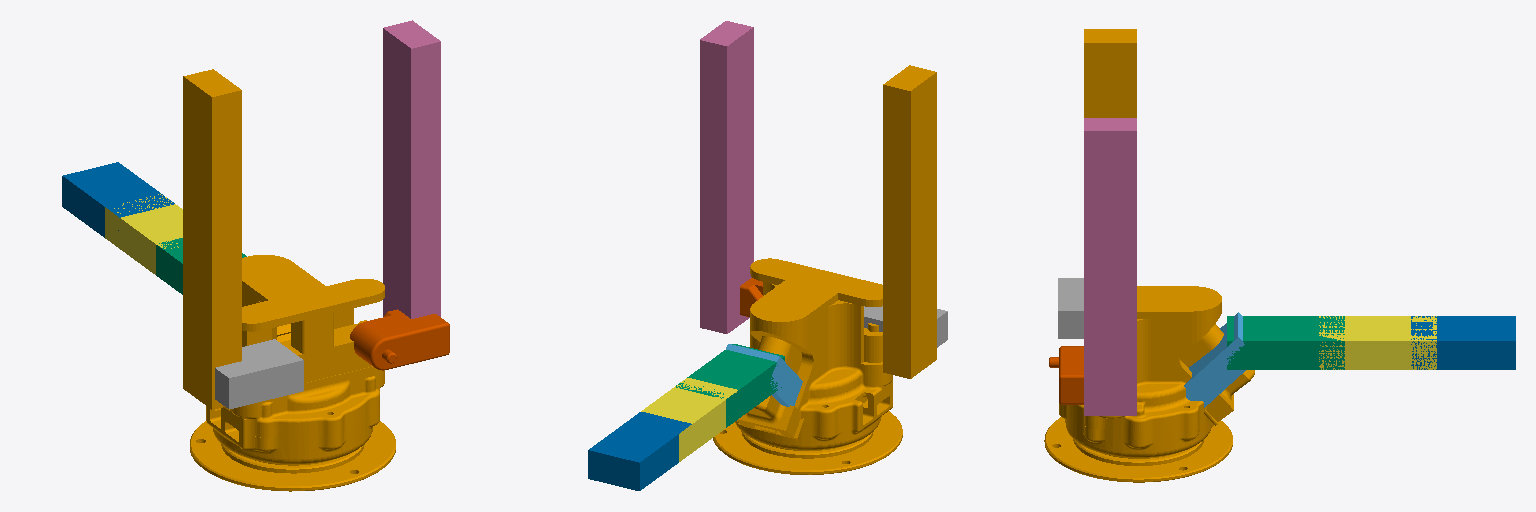
The robot description file, URDF, robot "myfirst":
<?xml version="1.0"?>
<robot name="myfirst">
    <gazebo>
        <plugin name="gazebo_ros_control" filename="libgazebo_ros_control.so">
            <robotNamespace>/</robotNamespace>
        </plugin>
    </gazebo>
    <material name="blue">
        <color rgba="0.0 0.0 1.0 2.0" />
    </material>
    <material name="white">
        <color rgba="1.0 1.0 1.0 2.0" />
    </material>
    <material name="black">
        <color rgba="0 0 0 2.0" />
    </material>

    <link name="base_link">
        <visual>
            <geometry>
                <mesh filename="package://k3hand_ros/urdf/hand/palm.stl" />
                <!-- <cylinder length="0.06" radius="0.025" /> -->
            </geometry>
            <origin xyz="0 0 0" rpy="0 0 3.1415" />
        </visual>
        <collision>
            <geometry>
                <cylinder length="0.06" radius="0.025" />
            </geometry>
        </collision>
        <!-- <inertial> -->
        <!--   <mass value="10"/> -->
        <!--   <inertia ixx="1.0" ixy="0.0" ixz="0.0" iyy="1.0" iyz="0.0" izz="1.0"/> -->
        <!-- </inertial> -->
    </link>
    <link name="link_fin1_1">
        <visual>
            <geometry>
                <box size="0.0225 0.035 0.012" />
            </geometry>
            <origin xyz="0.0 0.015 0.0" />
        </visual>
        <collision>
            <geometry>
                <box size="0.0225 0.035 0.012" />
            </geometry>
            <origin xyz="0.0 0.015 0.0" />
        </collision>
        <inertial>
            <mass value="10" />
            <inertia ixx="1.0" ixy="0.0" ixz="0.0" iyy="1.0" iyz="0.0" izz="1.0" />
        </inertial>
    </link>
    <link name="link_fin1_2">
        <visual>
            <geometry>
                <box size="0.0225 0.045 0.012" />
            </geometry>
            <origin xyz="0.0 0.0175 0.0" />
        </visual>
        <collision>
            <geometry>
                <box size="0.0225 0.045 0.012" />
            </geometry>
            <origin xyz="0.0 0.0175 0.0" />
        </collision>
        <inertial>
            <mass value="10" />
            <inertia ixx="1.0" ixy="0.0" ixz="0.0" iyy="1.0" iyz="0.0" izz="1.0" />
        </inertial>
    </link>
    <link name="link_fin1_3">
        <visual>
            <geometry>
                <box size="0.0225 0.045 0.012" />
            </geometry>
            <origin xyz="0.0 0.0175 0.0" />
        </visual>
        <collision>
            <geometry>
                <box size="0.0225 0.045 0.012" />
            </geometry>
            <origin xyz="0.0 0.0175 0.0" />
        </collision>
        <inertial>
            <mass value="10" />
            <inertia ixx="1.0" ixy="0.0" ixz="0.0" iyy="1.0" iyz="0.0" izz="1.0" />
        </inertial>
    </link>


    <link name="link_fin1_4">
        <visual>
            <geometry>
                <box size="0.0225 0.040 0.012" />
            </geometry>
            <origin xyz="0.0 0.015 0.0" />
        </visual>
        <collision>
            <geometry>
                <box size="0.0225 0.040 0.012" />
            </geometry>
            <origin xyz="0.0 0.015 0.0" />
        </collision>
        <inertial>
            <mass value="10" />
            <inertia ixx="1.0" ixy="0.0" ixz="0.0" iyy="1.0" iyz="0.0" izz="1.0" />
        </inertial>
    </link>

    <link name="link_fin2_1">
        <visual>
            <geometry>
                <mesh filename="package://k3hand_ros/urdf/hand/link_fin1_1.stl" />
                <!-- <box size="0.020 0.030 0.012" /> -->
            </geometry>
            <origin xyz="-0.005 -0.010 0.0" />
        </visual>
        <collision>
            <geometry>
                <box size="0.020 0.030 0.012" />
            </geometry>
            <origin xyz="-0.005 -0.010 0.0" />
        </collision>

        <inertial>
            <mass value="10" />
            <inertia ixx="1.0" ixy="0.0" ixz="0.0" iyy="1.0" iyz="0.0" izz="1.0" />
        </inertial>
    </link>
    <link name="link_fin2_2">
        <visual>
            <geometry>
                <box size="0.020 0.120 0.012" />
            </geometry>
            <origin xyz="0.005 -0.050 0.0" />
        </visual>
        <collision>
            <geometry>
                <box size="0.020 0.120 0.012" />
            </geometry>
            <origin xyz="0.005 -0.050 0.0" />
        </collision>
        <inertial>
            <mass value="10" />
            <inertia ixx="1.0" ixy="0.0" ixz="0.0" iyy="1.0" iyz="0.0" izz="1.0" />
        </inertial>
    </link>

    <link name="link_fin3_1">
        <visual>
            <geometry>
                <box size="0.020 0.030 0.012" />
            </geometry>
            <origin xyz="0.005 -0.010 0.0" />
        </visual>
        <collision>
            <geometry>
                <box size="0.020 0.030 0.012" />
            </geometry>
            <origin xyz="0.005 -0.010 0.0" />
        </collision>
        <inertial>
            <mass value="10" />
            <inertia ixx="1.0" ixy="0.0" ixz="0.0" iyy="1.0" iyz="0.0" izz="1.0" />
        </inertial>
    </link>
    <link name="link_fin3_2">
        <visual>
            <geometry>
                <box size="0.020 0.120 0.012" />
            </geometry>
            <origin xyz="-0.005 -0.050 0.0" />
        </visual>
        <collision>
            <geometry>
                <box size="0.020 0.120 0.012" />
            </geometry>
            <origin xyz="-0.005 -0.050 0.0" />
        </collision>
        <inertial>
            <mass value="10" />
            <inertia ixx="1.0" ixy="0.0" ixz="0.0" iyy="1.0" iyz="0.0" izz="1.0" />
        </inertial>
    </link>
    <joint name="joint0" type="revolute">
        <axis xyz="0.0 0.0 1.0" />
        <parent link="base_link" />
        <child link="link_fin2_1" />
        <origin xyz="0.020 -0.015 0.020" rpy="0.0 0.0 1.570796" />
        <limit lower="-1.570796" upper="0.523599" effort="0.0" velocity="0.0" />
    </joint>
    <joint name="joint1" type="revolute">
        <axis xyz="1.0 0.0 0" />
        <parent link="link_fin2_1" />
        <child link="link_fin2_2" />
        <origin xyz="0.000 -0.020 0.0" rpy="-1.570796 0.0 0.0" />
        <limit lower="-1.570796" upper="1.579796" effort="0.0" velocity="0.0" />
    </joint>
    <joint name="joint2" type="revolute">
        <axis xyz="0.0 0.0 1.0" />
        <parent link="base_link" />
        <child link="link_fin3_1" />
        <origin xyz="-0.020 -0.015 0.020" rpy="0.0 0.0 -1.570796" />
        <limit lower="-0.523599" upper="1.570796" effort="0.0" velocity="0.0" />
    </joint>
    <joint name="joint3" type="revolute">
        <axis xyz="-1.0 0.0 0" />
        <parent link="link_fin3_1" />
        <child link="link_fin3_2" />
        <origin xyz="0.000 -0.020 0.0" rpy="-1.570796 0.0 0.0" />
        <limit lower="-1.570796" upper="1.570796" effort="0.0" velocity="0.0" />
    </joint>
    <joint name="joint4" type="revolute">
        <axis xyz="0.0 0 -1" />
        <parent link="base_link" />
        <child link="link_fin1_1" />
        <origin rpy="0.78537 0 0" xyz="0 0.02 0" />
        <limit lower="-1.570796" upper="1.570796" effort="30.0" velocity="1.0" />
    </joint>
    <transmission name="joint_fin1_1_trans">
        <type>transmission_interface/SimpleTransmission</type>
        <actuator name="$joint_fin1_1_motor">
            <mechanicalReduction>1</mechanicalReduction>
        </actuator>
        <joint name="joint4">
            <hardwareInterface>hardware_interface/PositionJointInterface</hardwareInterface>
        </joint>
    </transmission>
    <joint name="joint5" type="revolute">
        <axis xyz="1 0.0 0.0" />
        <parent link="link_fin1_1" />
        <child link="link_fin1_2" />
        <origin rpy="-0.78537 0 0" xyz="0 0.0275 0" />
        <limit lower="-0.8726646" upper="2.268928" effort="0.0" velocity="0.0" />
    </joint>
    <joint name="joint6" type="revolute">
        <axis xyz="1 0.0 0.0" />
        <parent link="link_fin1_2" />
        <child link="link_fin1_3" />
        <origin rpy="0 0 0" xyz="0 0.035 0" />
        <limit lower="-1.570796" upper="1.570796" effort="0.0" velocity="0.0" />
    </joint>
    <joint name="joint7" type="revolute">
        <axis xyz="1 0.0 0.0" />
        <parent link="link_fin1_3" />
        <child link="link_fin1_4" />
        <origin rpy="0 0 0" xyz="0 0.035 0" />
        <limit lower="-1.570796" upper="1.570796" effort="0.0" velocity="0.0" />
    </joint>

</robot>

--- Render facts (derived) ---
3 views of the same robot in one strip: view 1: azimuth 30°, elevation 25°; view 2: azimuth 150°, elevation 25°; view 3: azimuth 270°, elevation 25° (orthographic).
Robot: myfirst — 9 links, 8 joints (8 revolute); root link base_link; default pose: every joint at zero.
Visible links, largest first — view 1: base_link, link_fin3_2, link_fin2_2, link_fin1_4, link_fin2_1, link_fin3_1, link_fin1_3, link_fin1_2; view 2: base_link, link_fin3_2, link_fin2_2, link_fin1_4, link_fin1_2, link_fin1_3, link_fin1_1, link_fin3_1, link_fin2_1; view 3: base_link, link_fin2_2, link_fin1_2, link_fin1_3, link_fin1_4, link_fin3_2, link_fin1_1, link_fin3_1, link_fin2_1.
Link boxes in pixels (x1=…): base_link: x1=190, y1=255, x2=395, y2=491; link_fin3_2: x1=183, y1=69, x2=241, y2=409; link_fin2_2: x1=383, y1=20, x2=440, y2=318; link_fin1_4: x1=62, y1=162, x2=174, y2=237; link_fin2_1: x1=350, y1=309, x2=449, y2=370; link_fin3_1: x1=215, y1=339, x2=303, y2=408; link_fin1_3: x1=105, y1=194, x2=182, y2=274; link_fin1_2: x1=156, y1=238, x2=246, y2=294; base_link: x1=713, y1=258, x2=902, y2=474; link_fin3_2: x1=883, y1=65, x2=936, y2=378; link_fin2_2: x1=700, y1=21, x2=753, y2=333; link_fin1_4: x1=588, y1=412, x2=691, y2=490; link_fin1_2: x1=676, y1=344, x2=784, y2=427; link_fin1_3: x1=641, y1=378, x2=737, y2=461; link_fin1_1: x1=726, y1=344, x2=802, y2=406; link_fin3_1: x1=864, y1=306, x2=947, y2=347; link_fin2_1: x1=740, y1=278, x2=762, y2=316; base_link: x1=1044, y1=286, x2=1254, y2=482; link_fin2_2: x1=1084, y1=118, x2=1136, y2=415; link_fin1_2: x1=1227, y1=316, x2=1344, y2=369; link_fin1_3: x1=1319, y1=316, x2=1436, y2=369; link_fin1_4: x1=1411, y1=316, x2=1515, y2=369; link_fin3_2: x1=1084, y1=29, x2=1136, y2=117; link_fin1_1: x1=1184, y1=312, x2=1245, y2=407; link_fin3_1: x1=1058, y1=278, x2=1083, y2=338; link_fin2_1: x1=1049, y1=346, x2=1083, y2=404.
Size in the robot's own frame: 0.092 by 0.1796 by 0.1575 metres.
Meshes: 2 distinct files referenced, 2 mesh visuals loaded (2 binary STL).
